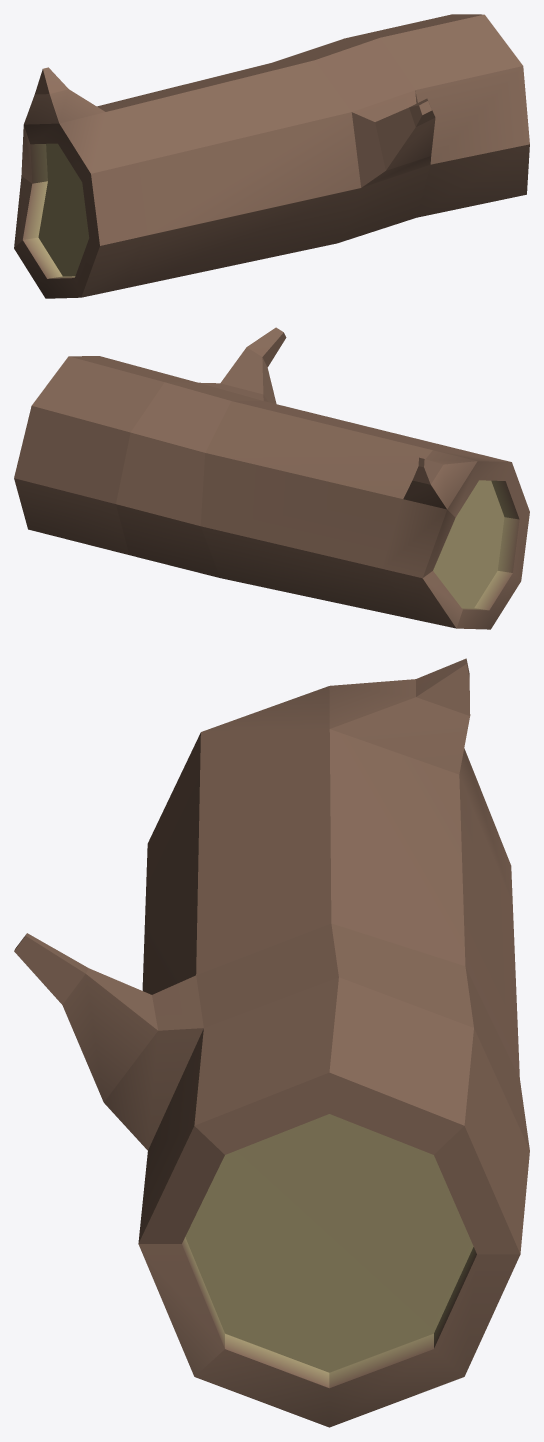
The model's file is log.fbx.
The picture shows the model from 3 angles, top to bottom: view 1: azimuth 30°, elevation 25°; view 2: azimuth 150°, elevation 25°; view 3: azimuth 270°, elevation 25°; orthographic projection. The views are drawn at different scales.
Parts seen in each view (by area): view 1: log; view 2: log; view 3: log.
Part boxes in pixels (x1,y1,x2,y2): log: (14,14,529,298); log: (14,327,529,629); log: (14,658,529,1427).
Bounding box in the file's own units: 1.28 × 0.5575 × 0.6716.
